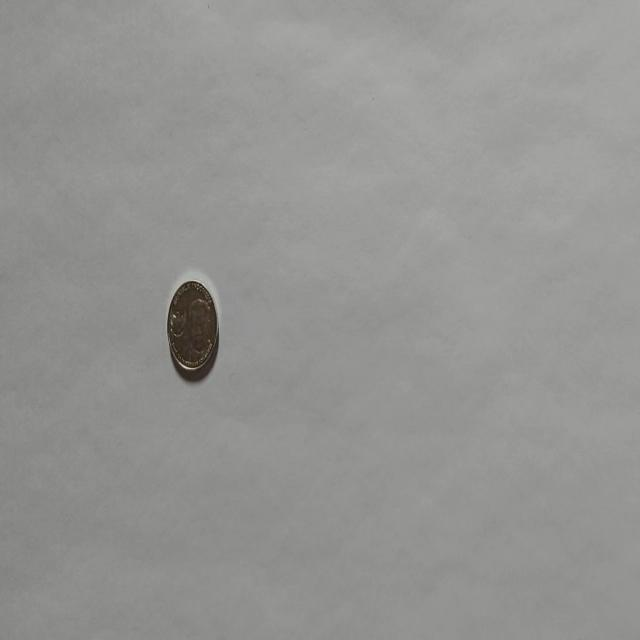seratus rupiah: (166, 277, 218, 375)
